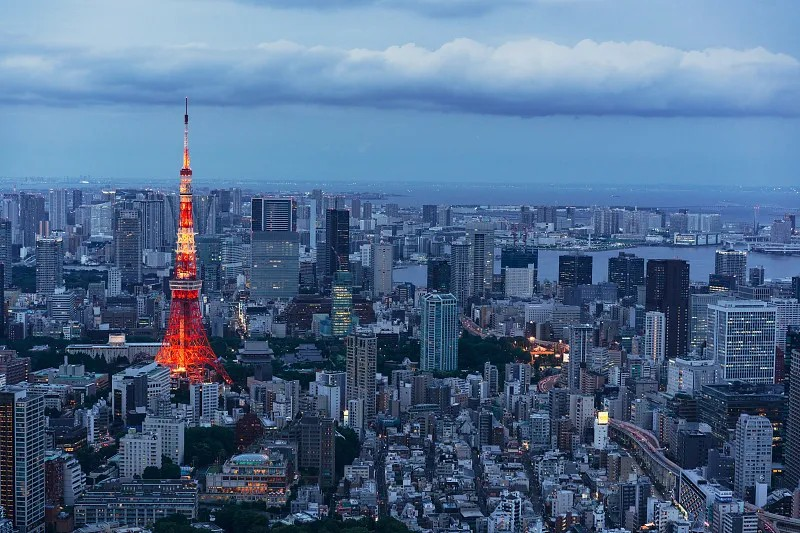Tokyo: (152, 95, 233, 385)
